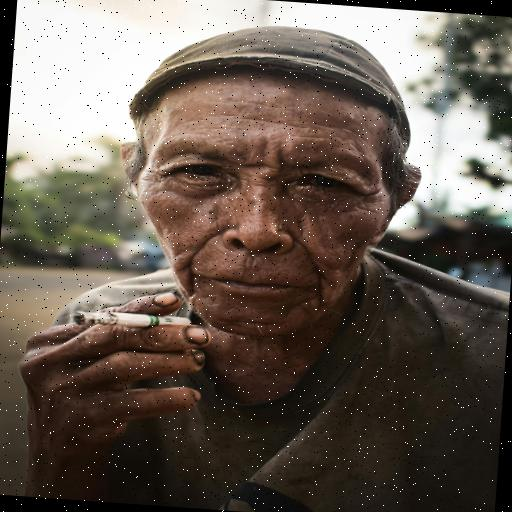terdeteksi pegang rokok: (31, 260, 226, 442)
